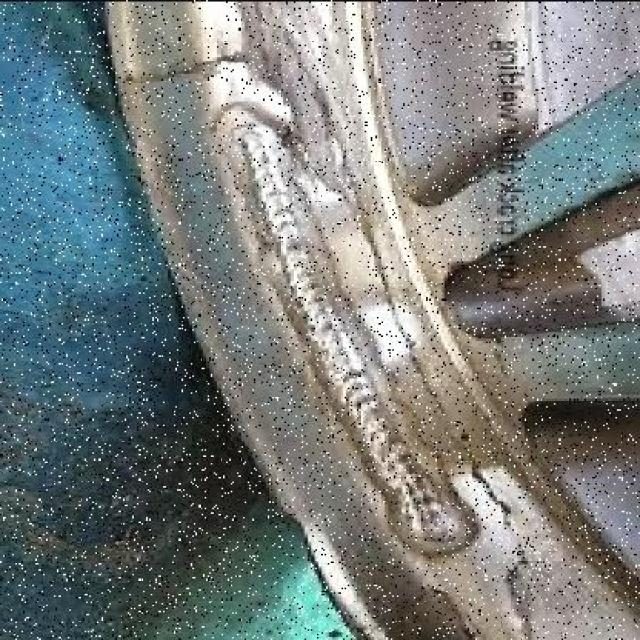Defect: (377, 290, 497, 458), (459, 468, 566, 566), (339, 186, 416, 286), (123, 51, 259, 91), (405, 581, 496, 640)
